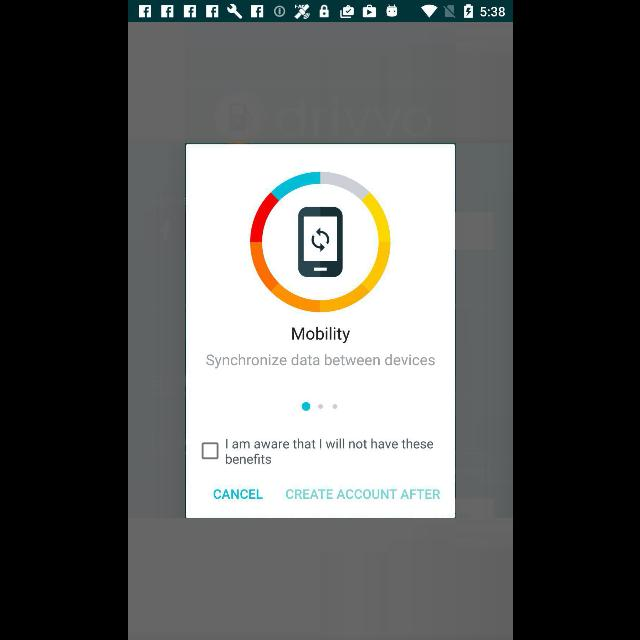checkbox: (200, 443, 218, 459)
image: (250, 172, 390, 312)
pageindicator: (302, 403, 336, 411)
panel: (186, 145, 454, 518)
text: (225, 438, 432, 464), (206, 354, 434, 368), (286, 489, 438, 498), (291, 326, 349, 344), (214, 489, 262, 498)
uppertaskbar: (128, 1, 512, 23)
